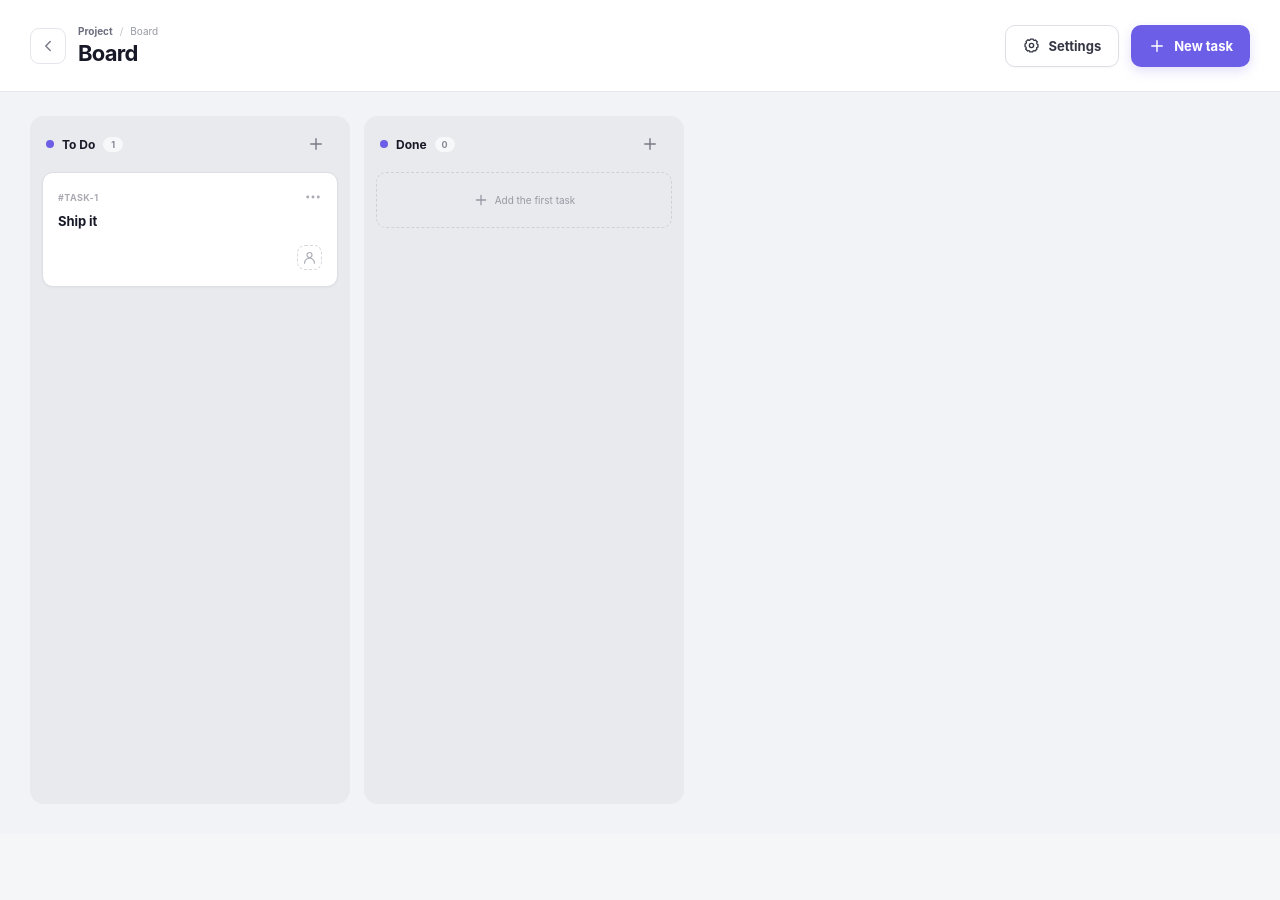
Test: BoardView: blocked-transition save flow › leaves the modal open, reverts the status select, and shows the partial-save toast when the transition is blocked
The width and height of the screenshot is (1280, 900).
Click the element with test id "task-card" at point(190, 230), box left=42, top=172, right=338, bottom=288
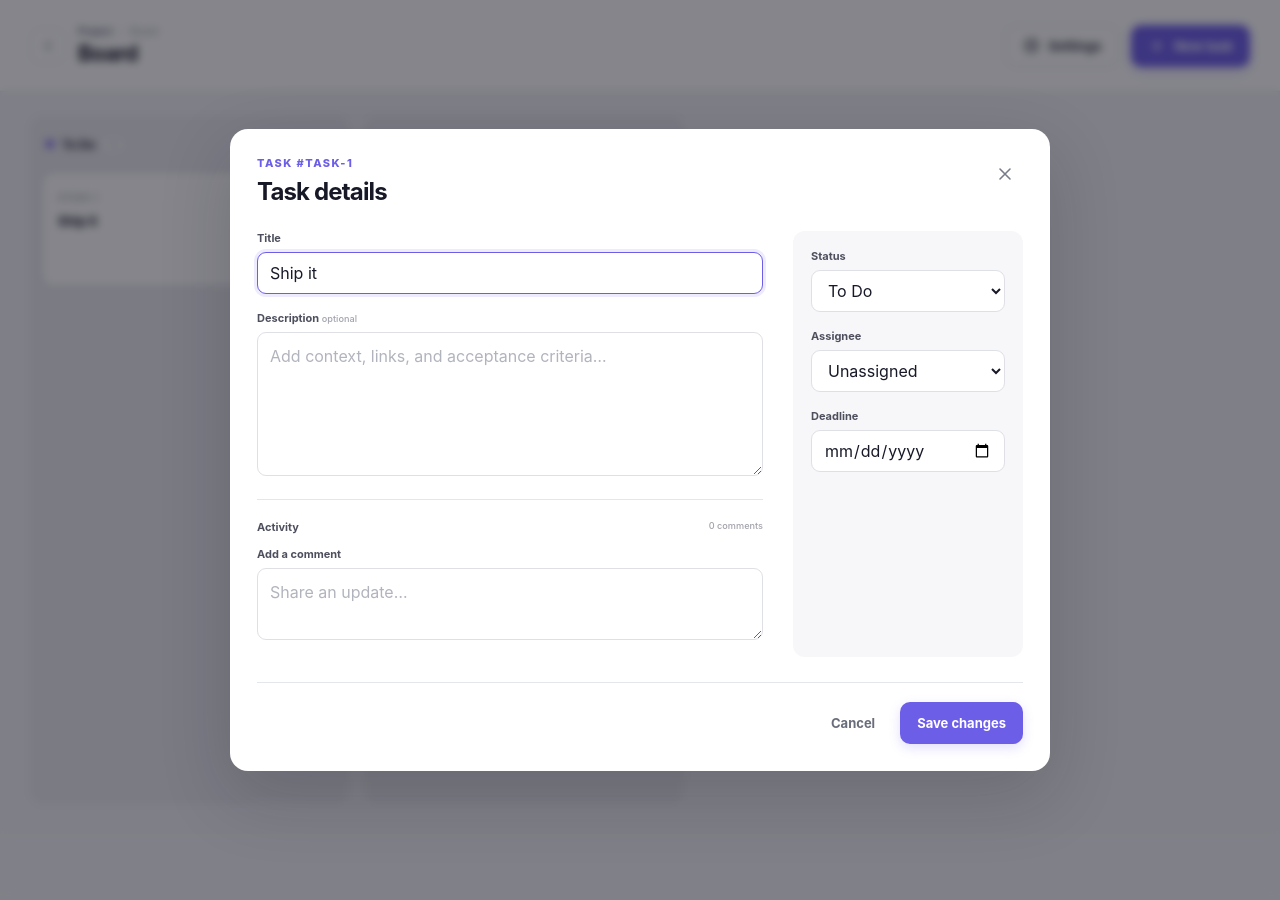
Check: the form with test id "task-modal" is shown, box left=230, top=129, right=1050, bottom=771
Replace the text in the field with test id "task-title" with "Ship it v2" at point(510, 273), box left=257, top=252, right=763, bottom=294
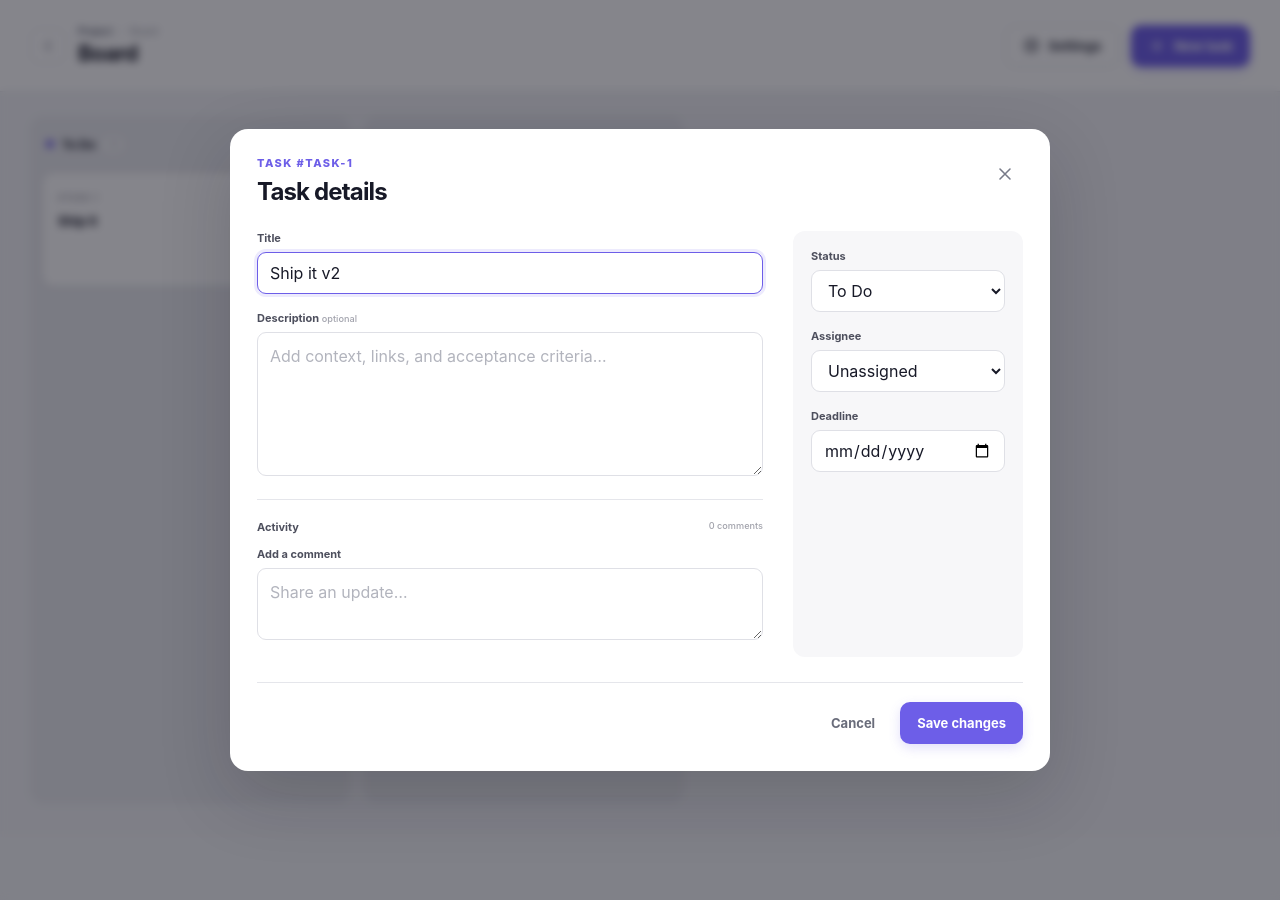
Select "Done" in the dropdown with test id "task-status" at point(908, 291), box left=811, top=270, right=1005, bottom=312
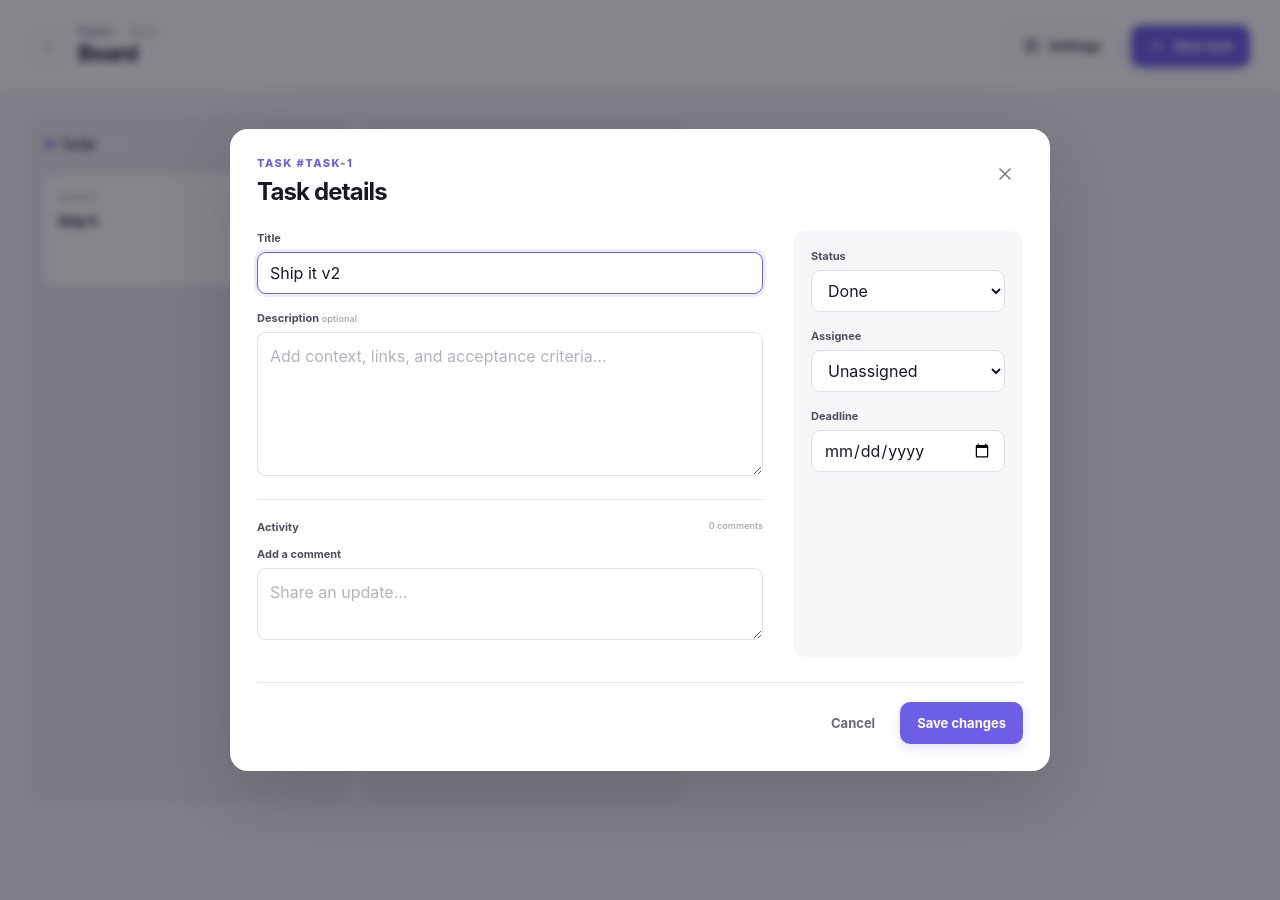
Submit the form with test id "task-modal", box left=230, top=129, right=1050, bottom=771
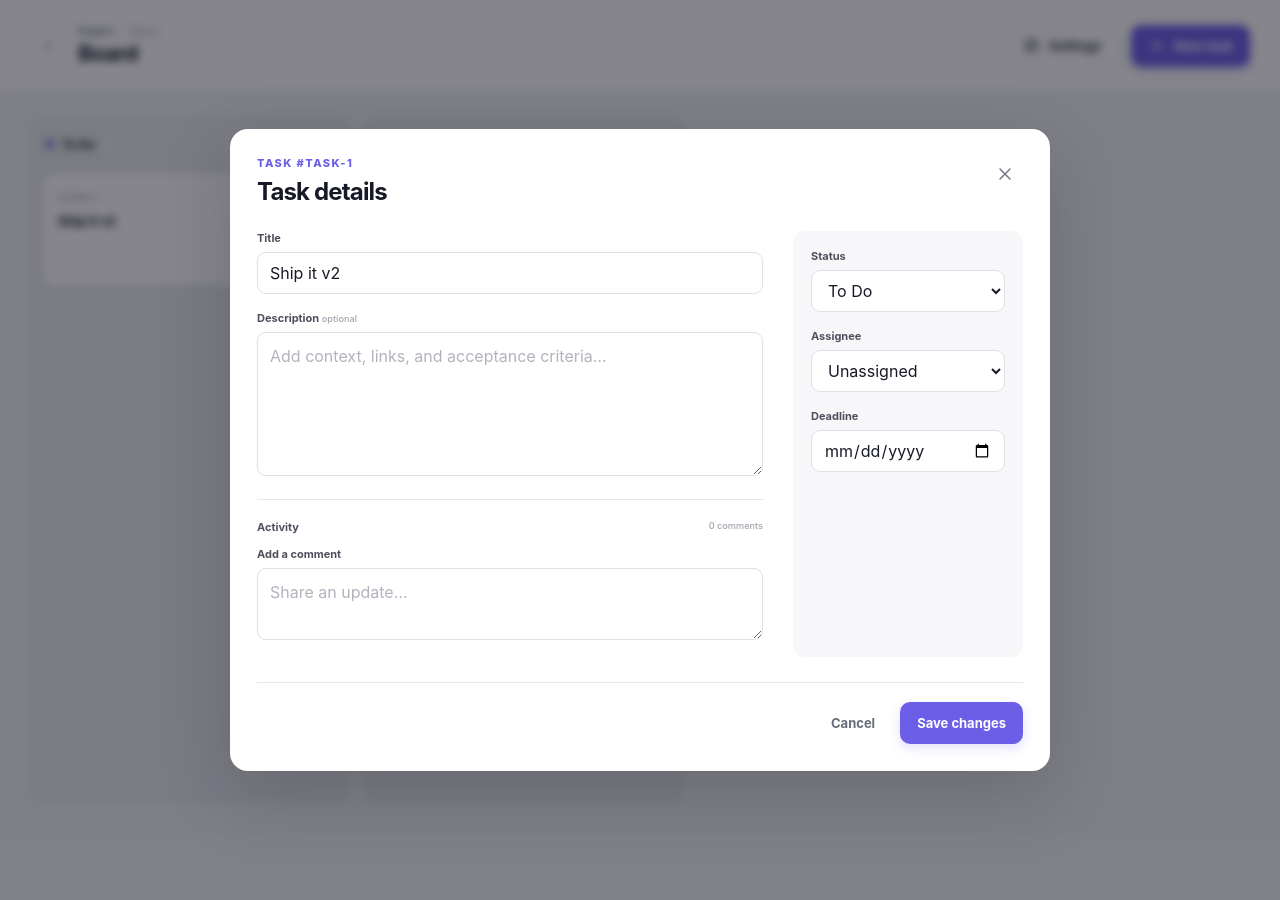
Check: the form with test id "task-modal" is shown, box left=230, top=129, right=1050, bottom=771
Check: the dropdown with test id "task-status" shows "To Do", box left=811, top=270, right=1005, bottom=312
